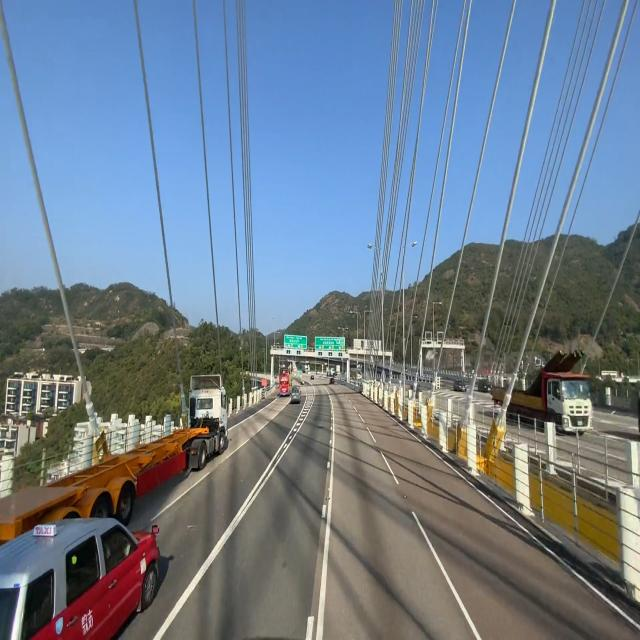Car: (0, 374, 229, 542), (0, 511, 163, 640), (290, 382, 304, 404)
